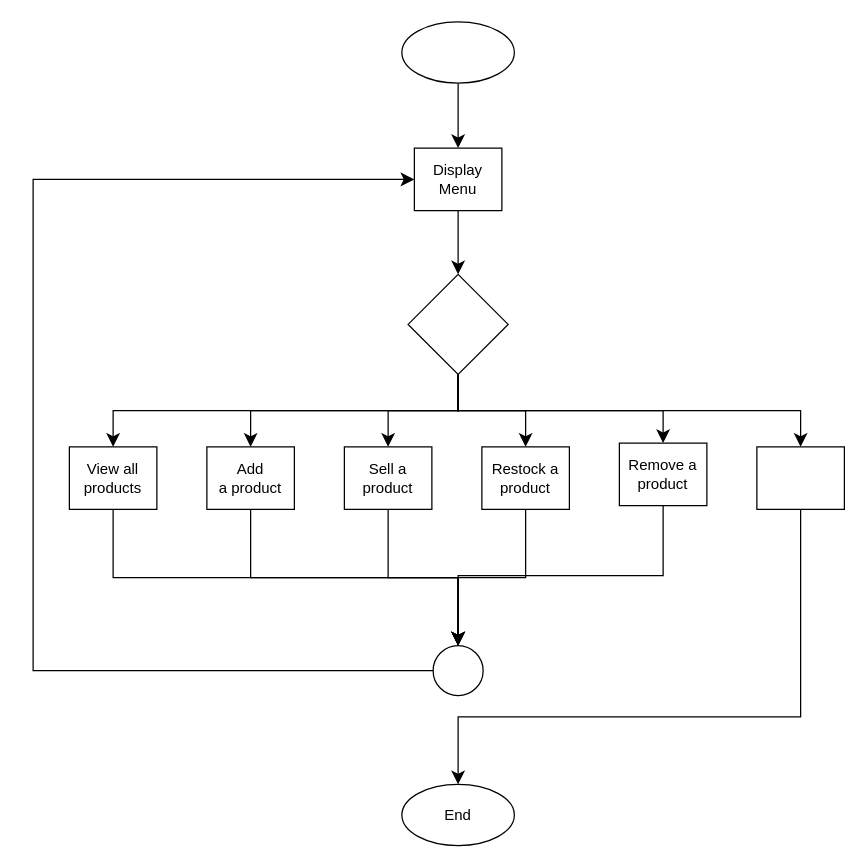
This 866x868 diagram has some shape labels left out. The centre of each missing label's shape, as x and y in pixels:
"Begin" belongs at (x=457, y=52).
"Exit application" belongs at (x=800, y=477).
"User choice" belongs at (x=457, y=323).
